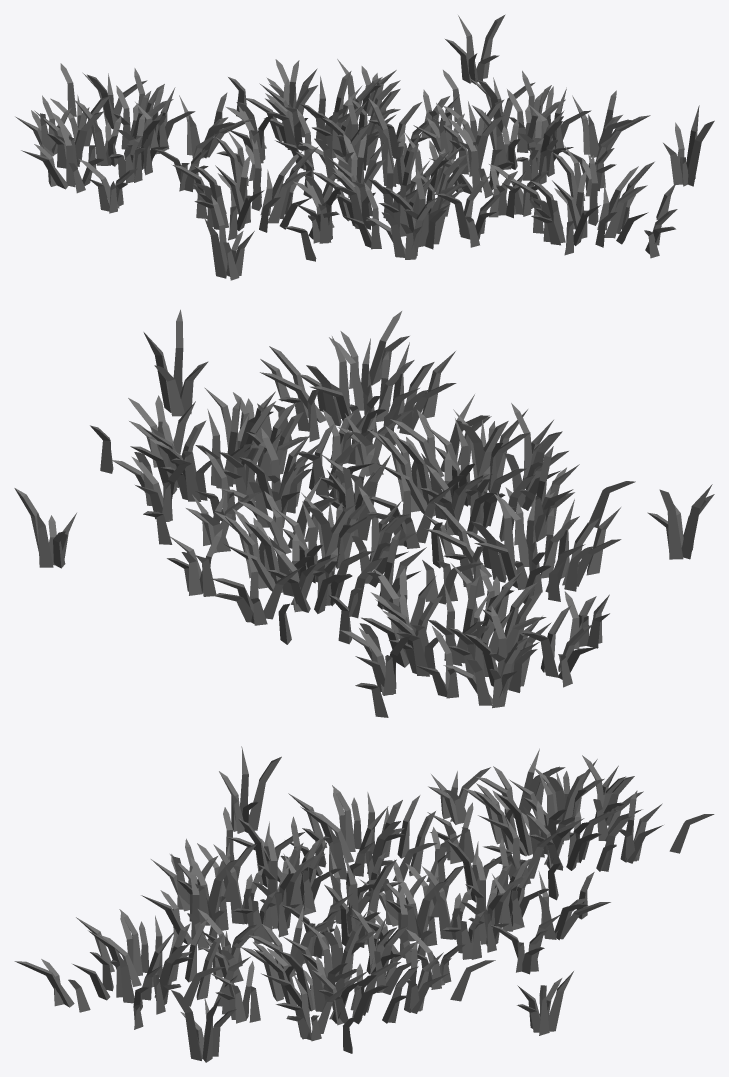
File: SM_Gen_Env_Grass_06.glb
3 views of the same model, one above another, from view 1: azimuth 30°, elevation 25°; view 2: azimuth 150°, elevation 25°; view 3: azimuth 270°, elevation 25° (orthographic). The views are drawn at different scales.
Parts seen in each view (by area): view 1: SM_Gen_Env_Grass_06; view 2: SM_Gen_Env_Grass_06; view 3: SM_Gen_Env_Grass_06.
Boxes of the visible parts, x1=… form: SM_Gen_Env_Grass_06: x1=15, y1=14, x2=714, y2=280; SM_Gen_Env_Grass_06: x1=14, y1=309, x2=714, y2=717; SM_Gen_Env_Grass_06: x1=14, y1=746, x2=714, y2=1062.
Bounding box in the file's own units: 6.74 × 0.9117 × 7.22.
1 material, 1 textured.
